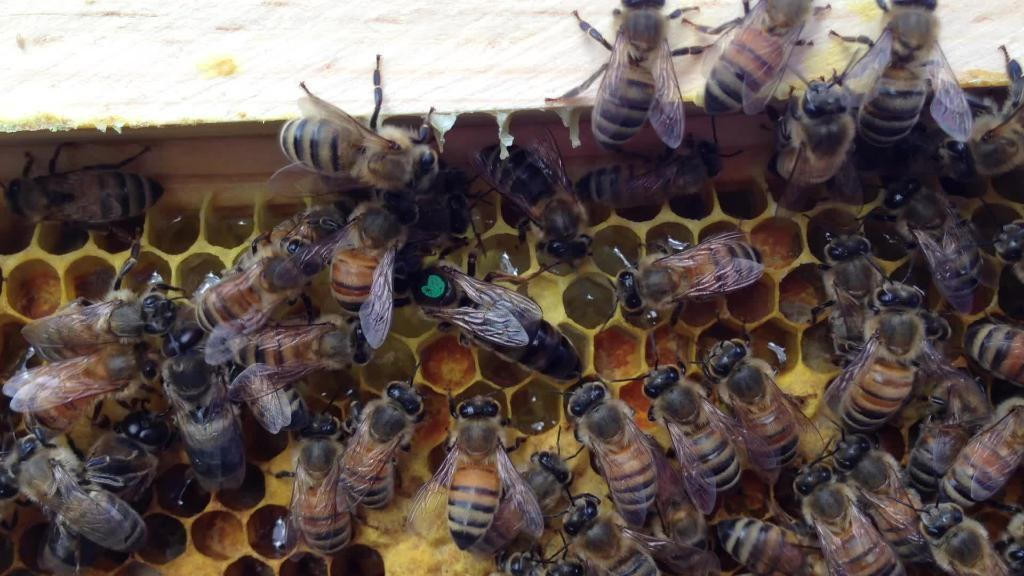bee: (0, 0, 1023, 575), (476, 209, 1023, 575), (0, 195, 469, 575), (266, 47, 454, 203), (398, 389, 554, 556), (549, 0, 711, 153), (838, 0, 980, 154), (413, 257, 583, 385), (589, 241, 787, 348), (23, 229, 192, 353), (678, 0, 831, 127), (829, 292, 954, 446), (771, 60, 870, 232), (478, 139, 596, 282), (4, 139, 158, 245), (893, 170, 992, 317), (936, 45, 1023, 183), (577, 152, 756, 209)
insect: (0, 125, 1023, 572)
